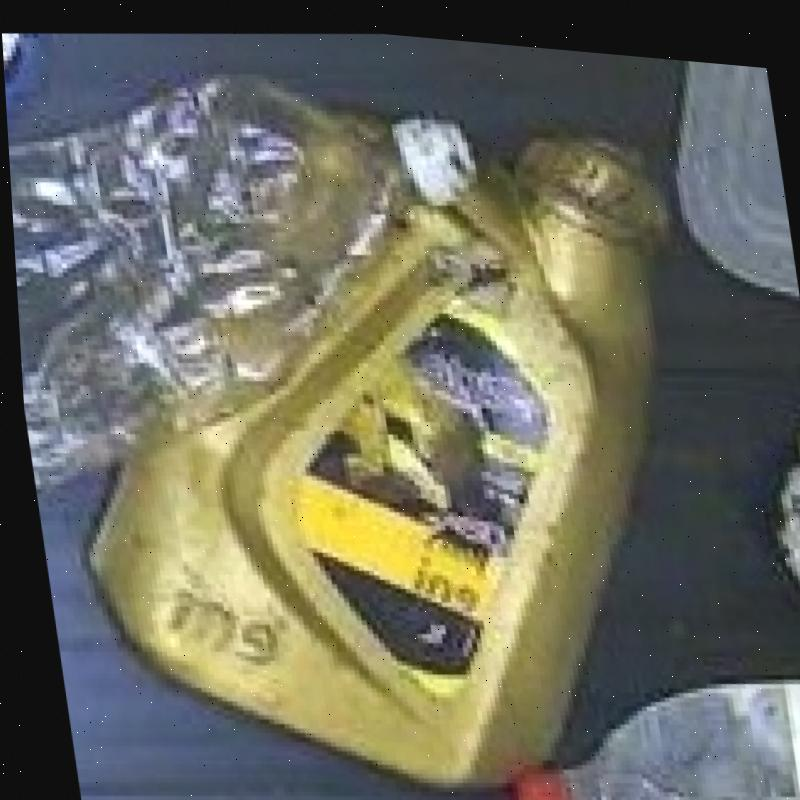botella: (2, 43, 515, 534), (478, 616, 800, 800)
